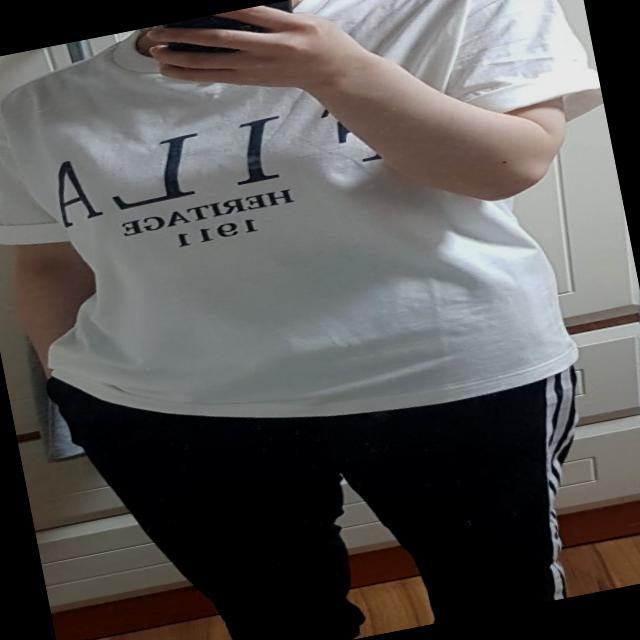shortsleeve: (0, 0, 640, 488)
trainingpants: (50, 272, 615, 640)
